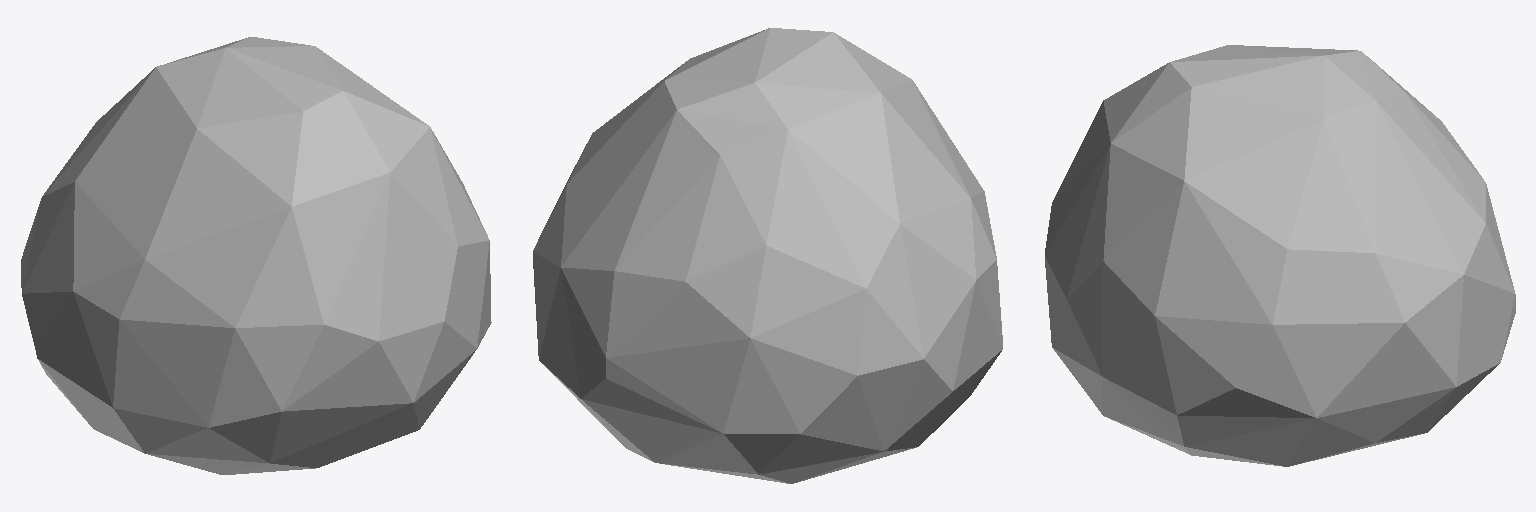
URDF robot description (root):
<robot name="root">
  <link name="link_ycb~062_dice_convex_piece_0">
    <inertial>
      <origin xyz="0 0 0" rpy="0 0 0"/>
      <mass value="2.52E-02"/>
      <inertia ixx="1.36E-06" ixy="1.64E-09" ixz="-1.64E-08" iyy="1.33E-06" iyz="2.19E-08" izz="1.52E-06"/>
    </inertial>
    <visual>
      <origin xyz="0 0 0" rpy="0 0 0"/>
      <geometry>
        <mesh filename="ycb~062_dice_convex_piece_0.obj" scale="1.0000E+00 1.0000E+00 1.0000E+00"/>
      </geometry>
      <material name="">
        <color rgba="7.50E-01 7.50E-01 7.50E-01 1"/>
      </material>
    </visual>
    <collision>
      <origin xyz="0 0 0" rpy="0 0 0"/>
      <geometry>
        <mesh filename="ycb~062_dice_convex_piece_0.obj" scale="1.0000E+00 1.0000E+00 1.0000E+00"/>
      </geometry>
    </collision>
  </link>
</robot>

--- Facts derived from the render (not from the file) ---
The picture shows the robot from 3 angles, left to right: view 1: azimuth 30°, elevation 25°; view 2: azimuth 150°, elevation 25°; view 3: azimuth 270°, elevation 25°; orthographic projection.
Robot: root — 1 links, 0 joints (none); root link link_ycb~062_dice_convex_piece_0; default pose: every joint at zero.
Visible links, largest first — view 1: link_ycb~062_dice_convex_piece_0; view 2: link_ycb~062_dice_convex_piece_0; view 3: link_ycb~062_dice_convex_piece_0.
Link boxes in pixels (x1,y1,x2,y2): link_ycb~062_dice_convex_piece_0: [21, 37, 491, 474]; link_ycb~062_dice_convex_piece_0: [533, 28, 1002, 483]; link_ycb~062_dice_convex_piece_0: [1045, 45, 1515, 466].
Bounding box of the posed robot: 0.0249 × 0.0249 × 0.0214 m (x, y, z).
1 mesh visuals loaded from 1 distinct referenced files (1 OBJ).